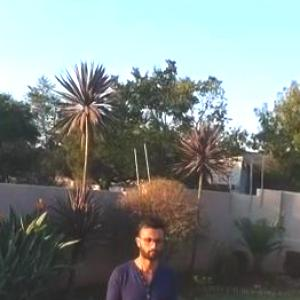follow: (100, 212, 182, 299)
